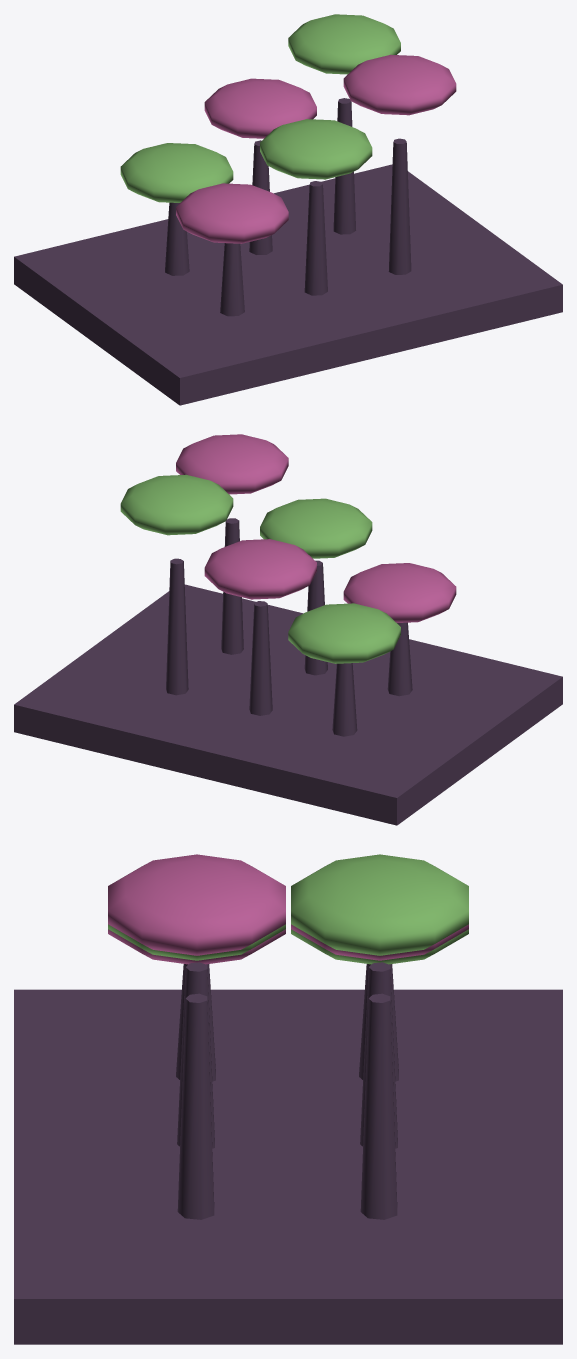
Rendered from spore_moth_garden.glb.
3 renders of one model, top to bottom at view 1: azimuth 30°, elevation 25°; view 2: azimuth 150°, elevation 25°; view 3: azimuth 270°, elevation 25°, orthographic. The views are drawn at different scales.
Visible parts, largest first — view 1: habitat_base, bloom_5, bloom_4, bloom_3, bloom_0, bloom_1, bloom_2, stem_5, stem_4, stem_2, stem_3, stem_0 (+1 smaller); view 2: habitat_base, bloom_2, bloom_1, bloom_0, bloom_3, bloom_4, bloom_5, stem_2, stem_1, stem_5, stem_0, stem_3 (+1 smaller); view 3: habitat_base, bloom_2, bloom_5, stem_2, stem_5, stem_1, stem_4, bloom_1, bloom_4, bloom_0, bloom_3, stem_0 (+1 smaller).
Boxes of the visible parts, box(x1,y1,x2,y2) form: habitat_base: box(14, 164, 562, 405); bloom_5: box(343, 54, 456, 115); bloom_4: box(260, 119, 372, 179); bloom_3: box(176, 183, 288, 243); bloom_0: box(120, 143, 233, 202); bloom_1: box(204, 78, 316, 138); bloom_2: box(288, 14, 400, 74); stem_5: box(388, 138, 411, 274); stem_4: box(304, 181, 327, 295); stem_2: box(333, 98, 355, 234); stem_3: box(220, 243, 244, 316); stem_0: box(165, 202, 189, 275); habitat_base: box(14, 584, 562, 825); bloom_2: box(120, 474, 233, 535); bloom_1: box(204, 539, 316, 599); bloom_0: box(288, 603, 400, 663); bloom_3: box(343, 563, 456, 622); bloom_4: box(260, 498, 372, 558); bloom_5: box(176, 434, 288, 494); stem_2: box(166, 558, 188, 695); stem_1: box(249, 601, 272, 715); stem_5: box(221, 518, 243, 654); stem_0: box(332, 663, 357, 736); stem_3: box(387, 622, 412, 696); habitat_base: box(14, 989, 562, 1344); bloom_2: box(291, 854, 468, 955); bloom_5: box(108, 854, 285, 955); stem_2: box(360, 993, 397, 1219); stem_5: box(177, 993, 214, 1219); stem_1: box(360, 962, 397, 1148); stem_4: box(177, 962, 214, 1148); bloom_1: box(291, 924, 468, 960); bloom_4: box(108, 924, 285, 960); bloom_0: box(291, 929, 468, 964); bloom_3: box(108, 929, 285, 964); stem_0: box(359, 964, 398, 1081).
Size of what is drawn, in the model's own units: 3.2 by 2.1 by 2.4.
